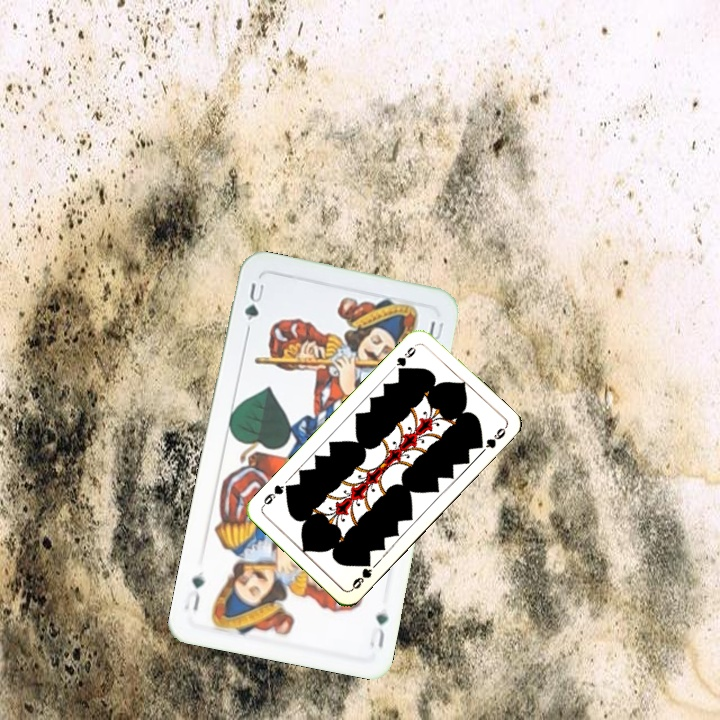G9: (347, 556, 375, 593), (392, 340, 420, 376)
GU: (240, 278, 267, 323), (365, 608, 391, 651)
